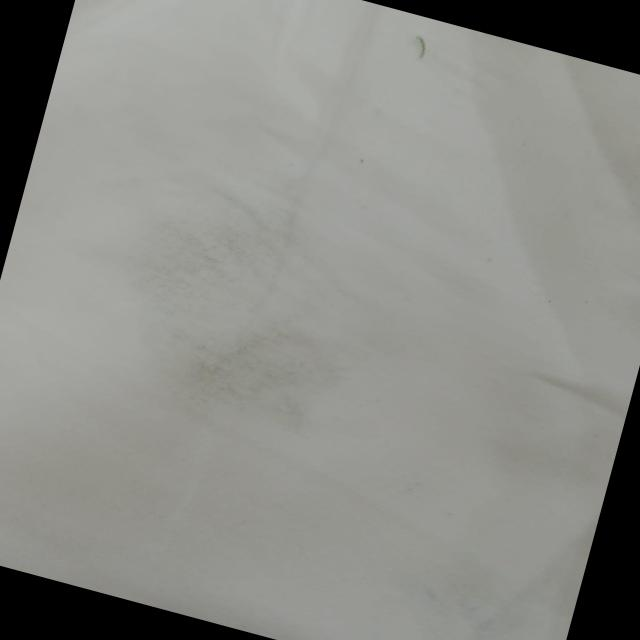stain: (114, 160, 322, 328), (162, 290, 369, 452), (394, 18, 448, 68)
